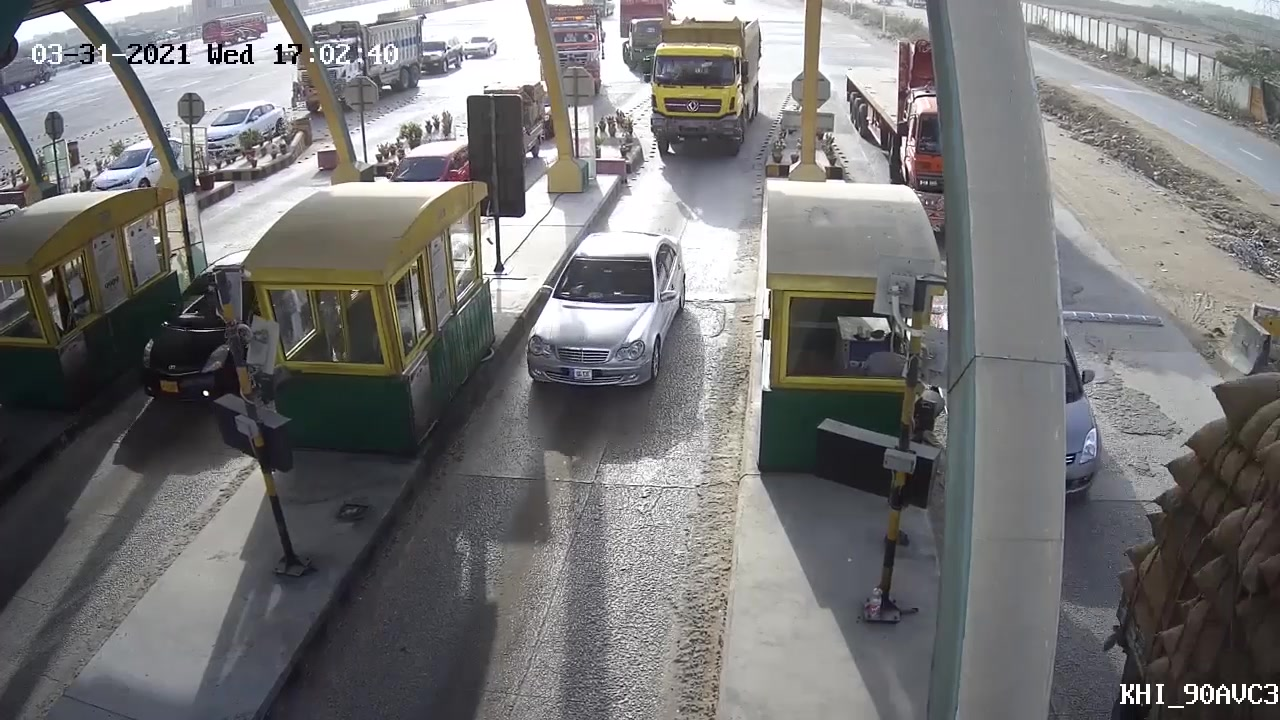F1: (521, 209, 691, 408)
F5: (642, 25, 755, 157)
